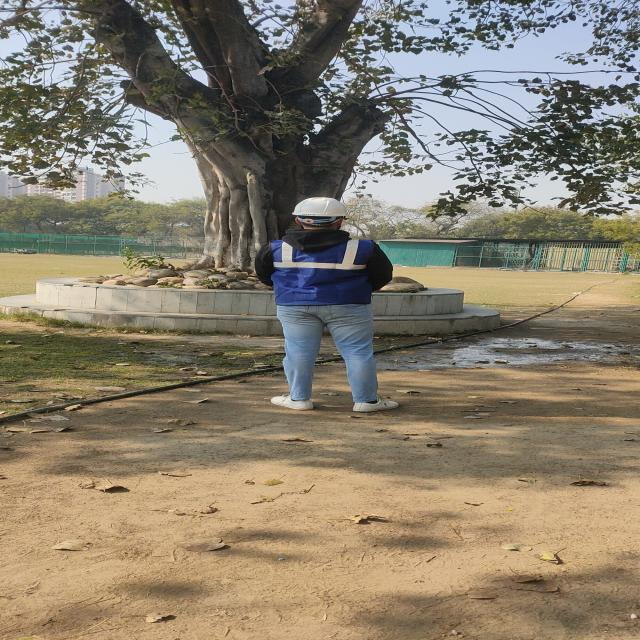safe: (254, 197, 400, 412)
